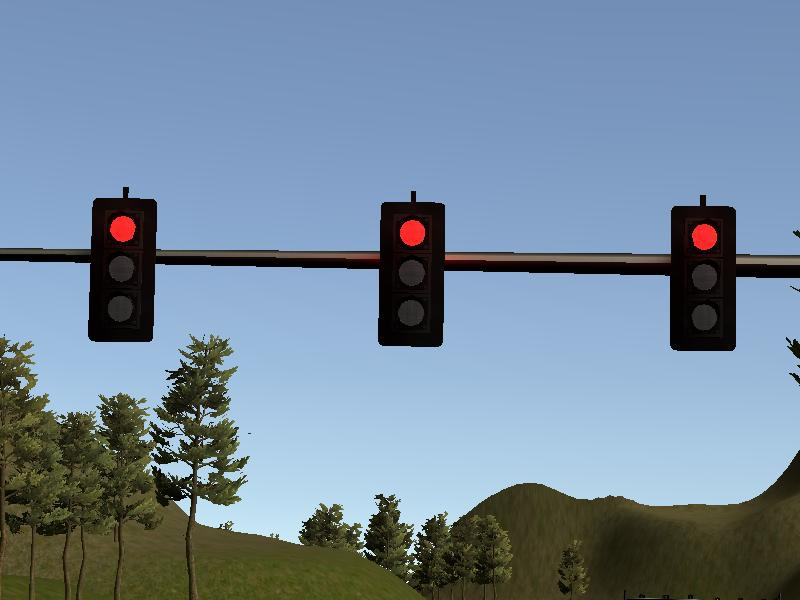Red: (376, 201, 446, 348), (86, 197, 156, 344), (667, 205, 736, 352)
